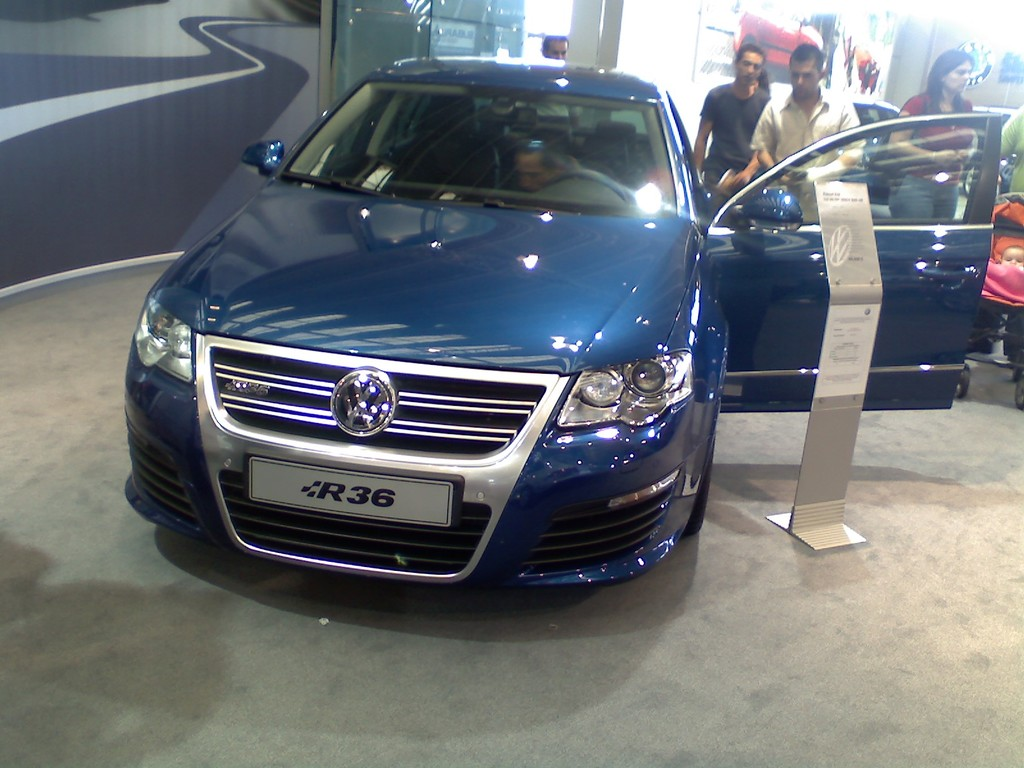Person: (515, 36, 1024, 381)
